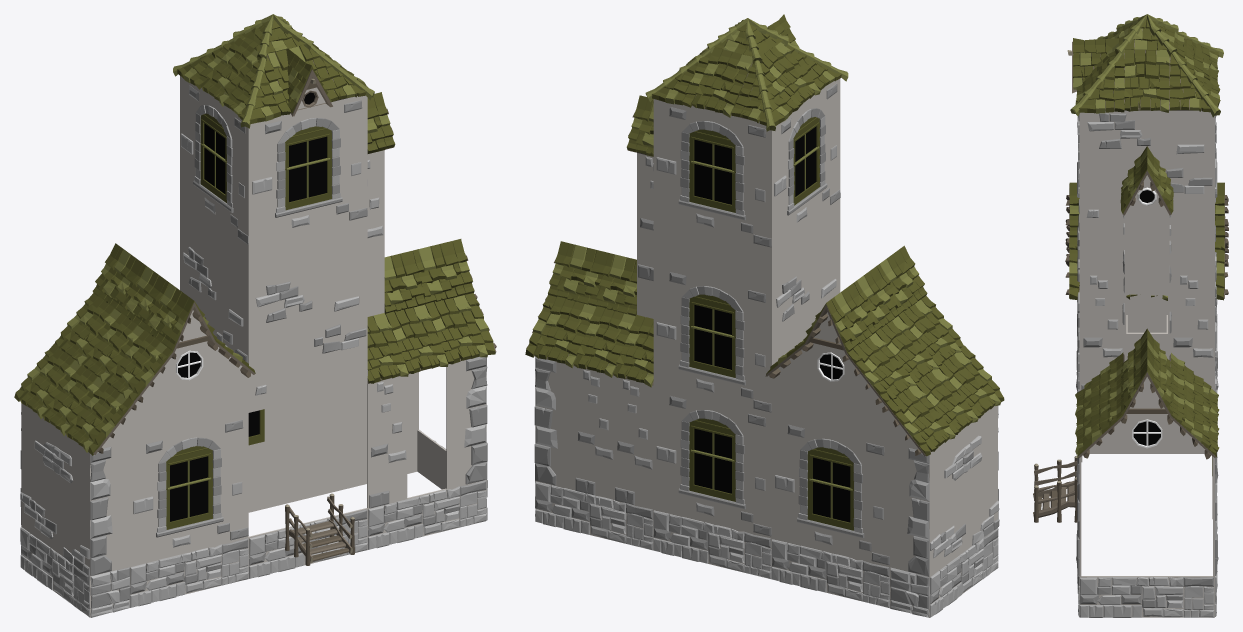
Rendered from HOUSE_15_PARTS.fbx.
3 views of the same model, side by side, from view 1: azimuth 30°, elevation 25°; view 2: azimuth 150°, elevation 25°; view 3: azimuth 270°, elevation 25° (orthographic).
Visible parts, largest first — view 1: WINDOW_05_19, WALL_01_2, WINDOW_05_18, WALL_03_2, WINDOW_05_20, WALL_07_8, WALL_06_3, FOUNDATION_03_4, FOUNDATION_03_2, WALL_05_9, WALL_01_4, FOUNDATION_03_3 (+46 smaller); view 2: WINDOW_05_23, WINDOW_05_24, WINDOW_05_21, WINDOW_05_22, WALL_03_2, WINDOW_05_20, FOUNDATION_03_8, FOUNDATION_03_7, WALL_05_10, FOUNDATION_03_6, WALL_06_11, WALL_06_10 (+40 smaller); view 3: WALL_01_3, FOUNDATION_03_5, WALL_06_8, WALL_06_9, ROOF_BASE_16, WALL_01_4, ROOF_CORNER_OUT_4, ROOF_CORNER_OUT_5, STAIRS_02_2, ROOF_UP_2, ROOF_TRIAGLE_QUAD_7, ROOF_TRIANGLE_QUAD_WINDOW_4 (+40 smaller).
Part boxes in pixels (x1,y1,x2,y2): WINDOW_05_19: (129, 413, 248, 566); WALL_01_2: (248, 259, 367, 412); WINDOW_05_18: (248, 95, 367, 246); WALL_03_2: (20, 403, 89, 575); WINDOW_05_20: (180, 76, 250, 246); WALL_07_8: (446, 356, 487, 488); WALL_06_3: (367, 376, 407, 508); FOUNDATION_03_4: (367, 479, 486, 549); FOUNDATION_03_2: (129, 537, 248, 607); WALL_05_9: (90, 442, 129, 575); WALL_01_4: (180, 238, 249, 412); FOUNDATION_03_3: (248, 508, 367, 578); WINDOW_05_23: (772, 414, 890, 566); WINDOW_05_24: (653, 385, 771, 537); WINDOW_05_21: (653, 262, 771, 414); WINDOW_05_22: (653, 99, 771, 248); WALL_03_2: (929, 405, 999, 576); WINDOW_05_20: (772, 79, 840, 248); FOUNDATION_03_8: (771, 538, 890, 608); FOUNDATION_03_7: (653, 509, 771, 579); WALL_05_10: (534, 356, 574, 489); FOUNDATION_03_6: (535, 480, 653, 550); WALL_06_11: (575, 366, 614, 499); WALL_06_10: (614, 376, 653, 509); WALL_01_3: (1079, 110, 1214, 233); FOUNDATION_03_5: (1079, 576, 1214, 617); WALL_06_8: (1079, 274, 1124, 389); WALL_06_9: (1169, 274, 1214, 388); ROOF_BASE_16: (1124, 49, 1169, 112); WALL_01_4: (1126, 274, 1167, 332); ROOF_CORNER_OUT_4: (1169, 51, 1220, 117); ROOF_CORNER_OUT_5: (1070, 50, 1124, 116); STAIRS_02_2: (1033, 455, 1077, 522); ROOF_UP_2: (1115, 14, 1178, 56); ROOF_TRIAGLE_QUAD_7: (1169, 233, 1214, 274); ROOF_TRIANGLE_QUAD_WINDOW_4: (1124, 414, 1169, 453).
Size of the model in its own units: 1041 by 1266 by 434.
